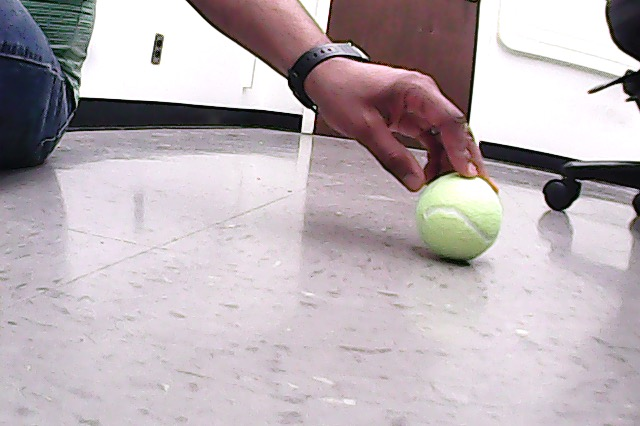ball: (414, 169, 507, 265)
